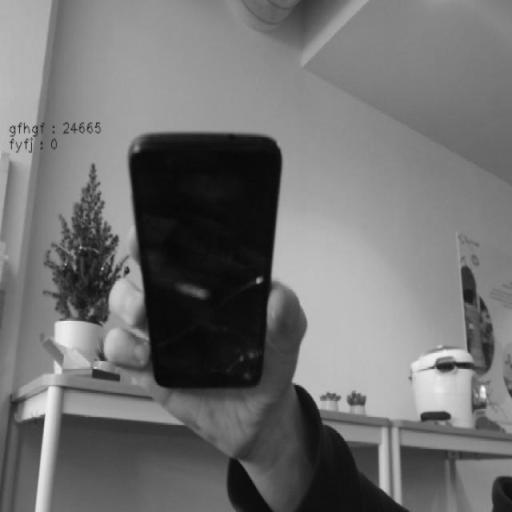phone: (132, 139, 283, 394)
